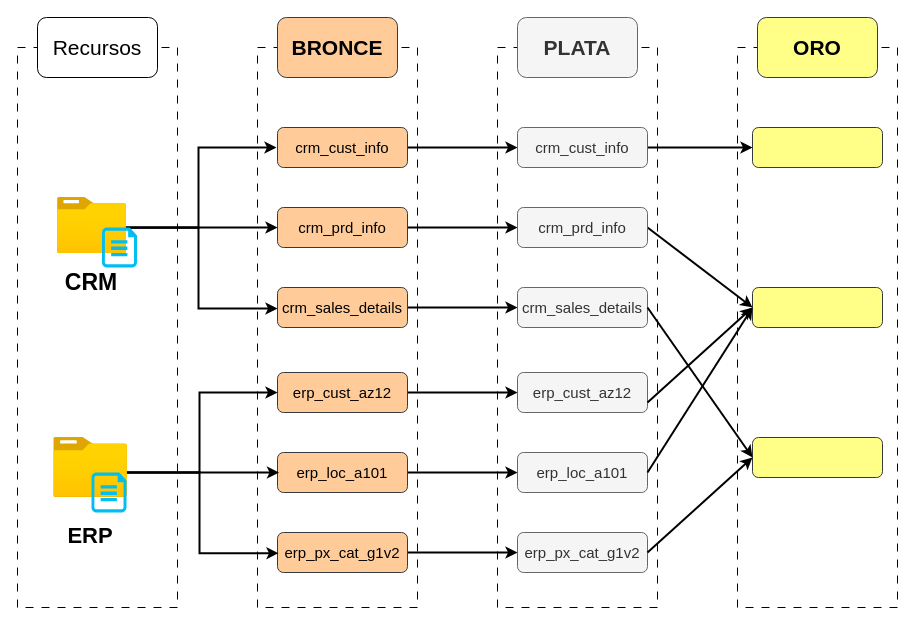
Some shapes in this 915 by 625 pixel diagram are drawn without their labels. The centre of each missing label's shape, as x and y in pixels:
dim_clientes: the point at 817,307
dim_productos: the point at 817,457
fact_ventas: the point at 817,147
